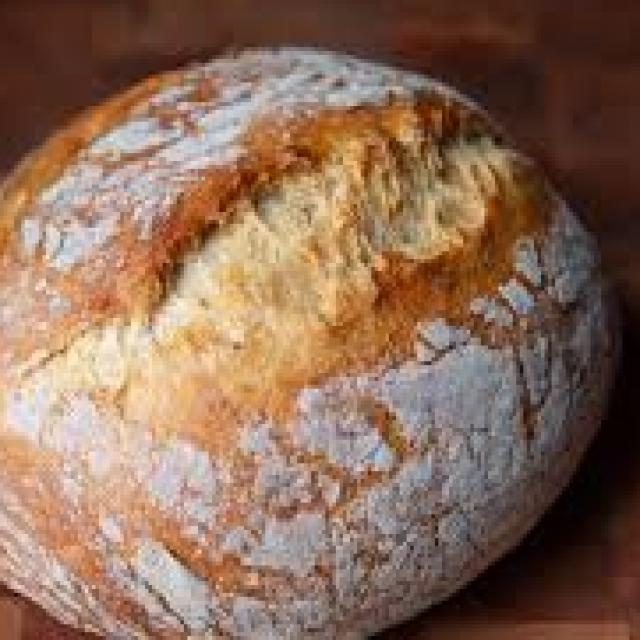inorganic: (9, 39, 620, 630)
